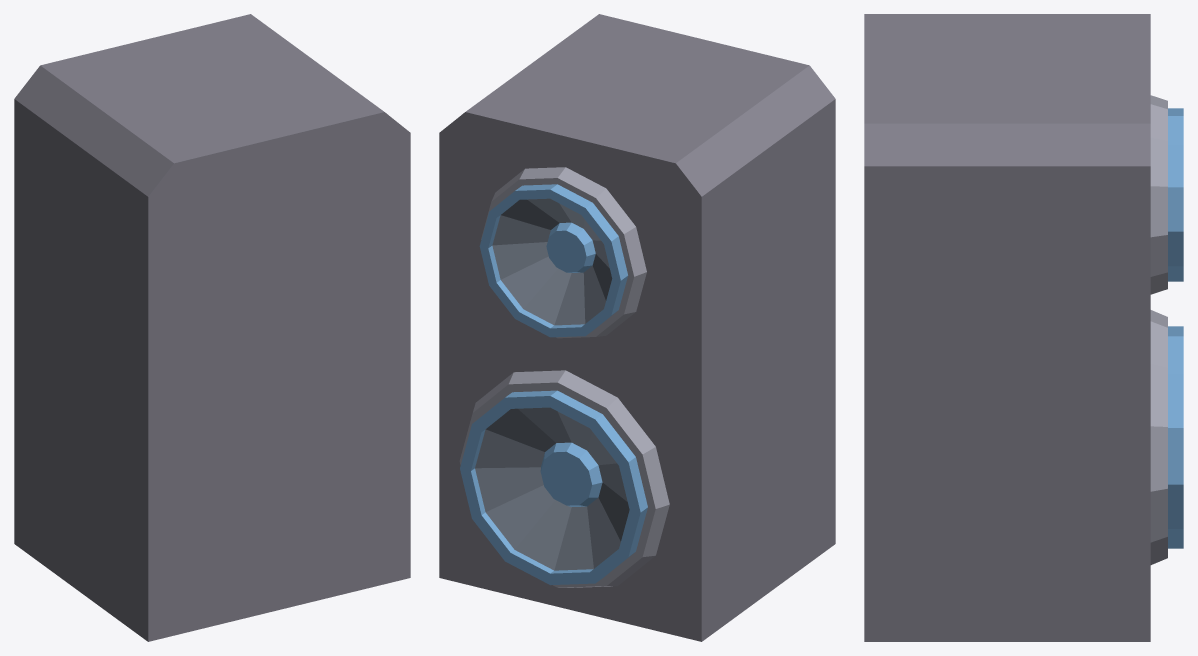
The model's file is Speaker_geo.fbx.
3 renders of one model, left to right at view 1: azimuth 30°, elevation 25°; view 2: azimuth 150°, elevation 25°; view 3: azimuth 270°, elevation 25°, orthographic. The views are drawn at different scales.
Parts seen in each view (by area): view 1: Speaker_geo; view 2: Speaker_geo; view 3: Speaker_geo.
Part boxes in pixels (bbox=[...]): Speaker_geo: bbox=[14, 14, 410, 641]; Speaker_geo: bbox=[439, 14, 835, 641]; Speaker_geo: bbox=[864, 14, 1183, 641].
Bounding box in the file's own units: 0.6611 × 0.6518 × 1.14.
